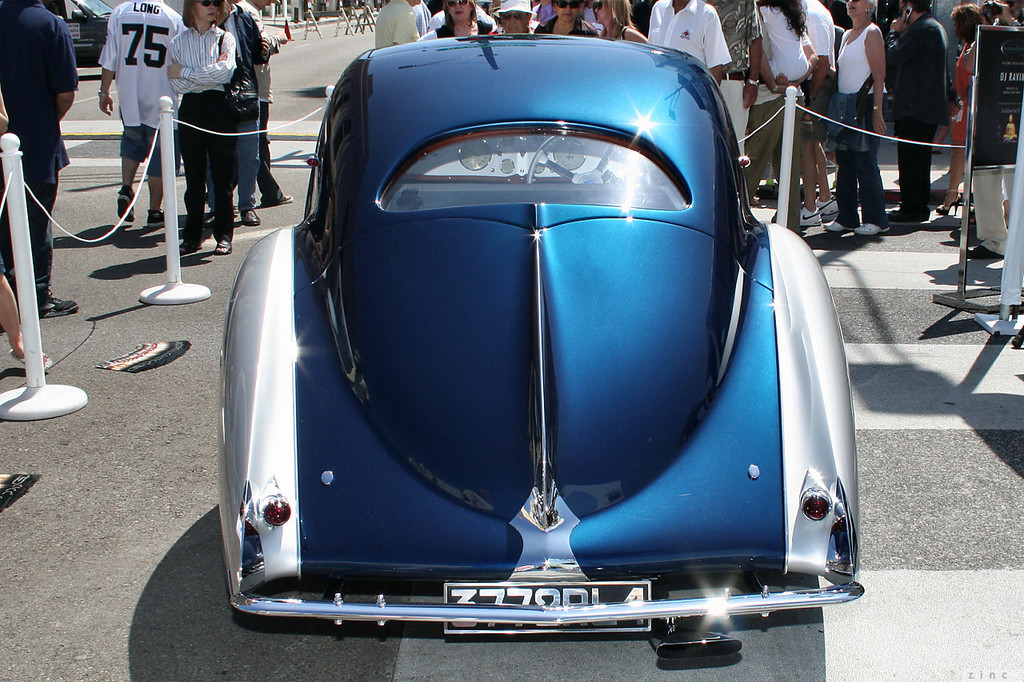Car: (219, 34, 863, 661)
